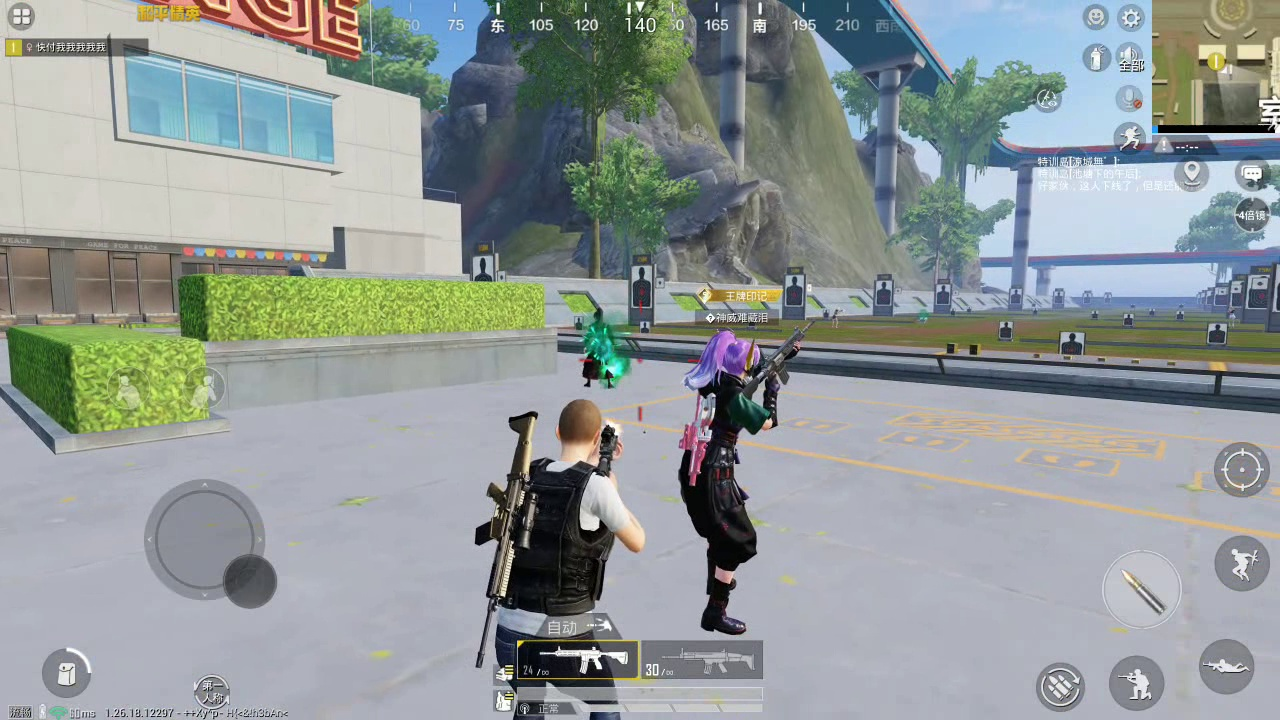enemy: (684, 326, 786, 638), (580, 309, 622, 386)
